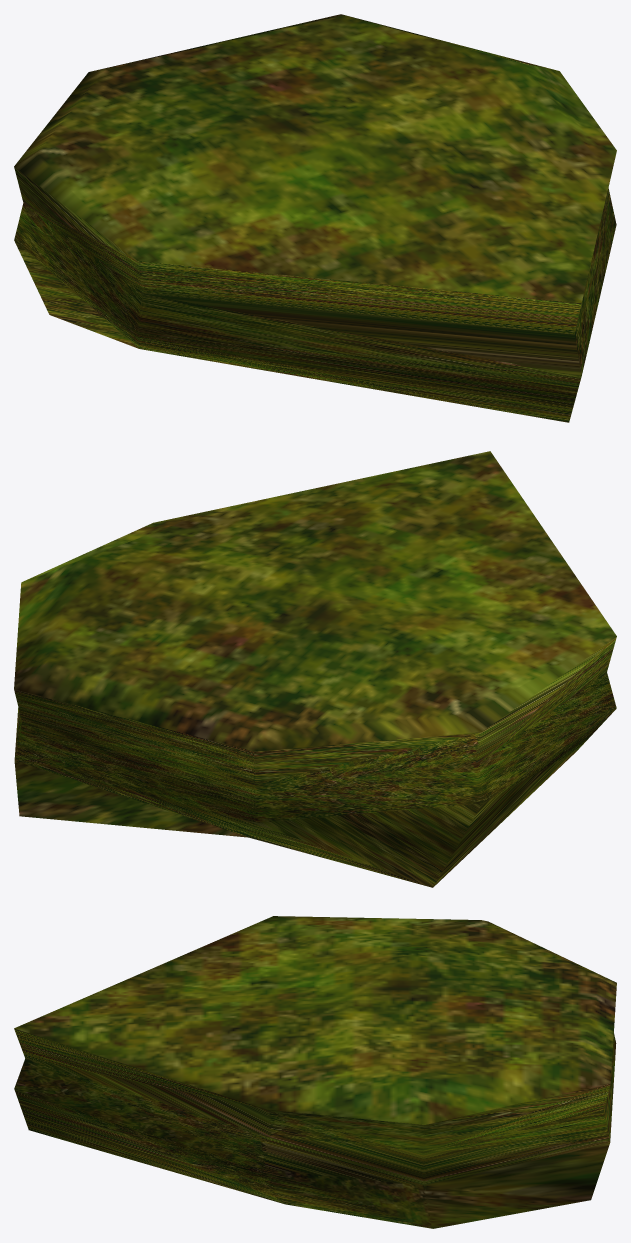
The model's file is TROLLHOLE02_RM_FALL_ROCK04.fbx.
The picture shows the model from 3 angles, top to bottom: view 1: azimuth 30°, elevation 25°; view 2: azimuth 150°, elevation 25°; view 3: azimuth 270°, elevation 25°; orthographic projection. The views are drawn at different scales.
Visible parts, largest first — view 1: TROLLHOLE02_RM_FALL_ROCK04; view 2: TROLLHOLE02_RM_FALL_ROCK04; view 3: TROLLHOLE02_RM_FALL_ROCK04.
Boxes of the visible parts, x1=… form: TROLLHOLE02_RM_FALL_ROCK04: x1=14, y1=14, x2=616, y2=422; TROLLHOLE02_RM_FALL_ROCK04: x1=14, y1=451, x2=616, y2=887; TROLLHOLE02_RM_FALL_ROCK04: x1=14, y1=916, x2=616, y2=1228.
Size of the model in its own units: 21998 by 8125 by 27163.
1 material, 1 textured.
